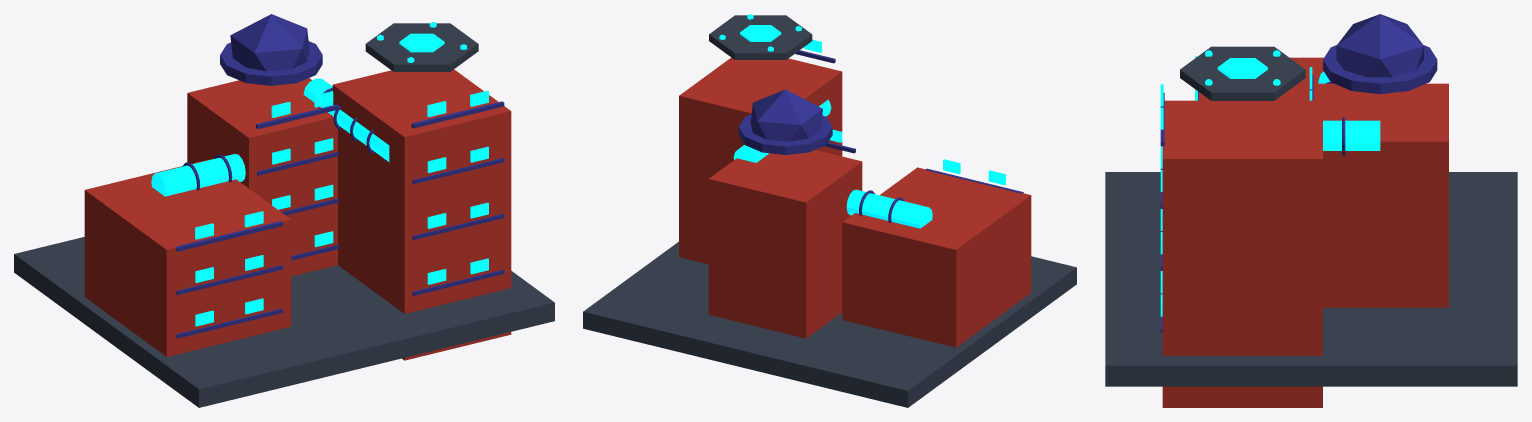
3 renders of one model, left to right at view 1: azimuth 30°, elevation 25°; view 2: azimuth 150°, elevation 25°; view 3: azimuth 270°, elevation 25°, orthographic. The views are drawn at different scales.
Parts seen in each view (by area): view 1: IU_Block_East, IU_Foundation, IU_Block_West, IU_Block_Mid, IU_VTOLPad, IU_GeodesicDome, IU_Skywalk_1, IU_DomeBase, IU_Skywalk_2, IU_VTOLMark, IU_Panel_West_2, IU_Panel_East_3 (+6 smaller); view 2: IU_Foundation, IU_Block_West, IU_Block_Mid, IU_Block_East, IU_VTOLPad, IU_GeodesicDome, IU_Skywalk_1, IU_DomeBase, IU_VTOLMark, IU_Skywalk_2; view 3: IU_Block_East, IU_Foundation, IU_Block_Mid, IU_VTOLPad, IU_GeodesicDome, IU_DomeBase, IU_Skywalk_2, IU_Block_West, IU_VTOLMark.
Boxes of the visible parts, <box> form: IU_Block_East: <box>332,69,511,360</box>; IU_Foundation: <box>14,237,554,407</box>; IU_Block_West: <box>84,159,291,356</box>; IU_Block_Mid: <box>187,78,337,276</box>; IU_VTOLPad: <box>365,23,478,71</box>; IU_GeodesicDome: <box>230,14,309,71</box>; IU_Skywalk_1: <box>151,154,245,196</box>; IU_DomeBase: <box>220,41,322,85</box>; IU_Skywalk_2: <box>303,78,389,161</box>; IU_VTOLMark: <box>399,33,444,52</box>; IU_Panel_West_2: <box>175,221,282,251</box>; IU_Panel_East_3: <box>411,101,504,128</box>; IU_Foundation: <box>583,242,1076,407</box>; IU_Block_West: <box>842,167,1031,347</box>; IU_Block_Mid: <box>708,150,862,338</box>; IU_Block_East: <box>679,57,842,264</box>; IU_VTOLPad: <box>709,15,812,59</box>; IU_GeodesicDome: <box>750,89,822,141</box>; IU_Skywalk_1: <box>846,189,932,228</box>; IU_DomeBase: <box>738,114,832,154</box>; IU_VTOLMark: <box>740,25,781,41</box>; IU_Skywalk_2: <box>733,100,831,162</box>; IU_Block_East: <box>1162,100,1322,407</box>; IU_Foundation: <box>1105,172,1517,386</box>; IU_Block_Mid: <box>1313,83,1448,307</box>; IU_VTOLPad: <box>1180,46,1305,100</box>; IU_GeodesicDome: <box>1336,14,1423,77</box>; IU_DomeBase: <box>1323,45,1437,94</box>; IU_Skywalk_2: <box>1323,120,1380,150</box>; IU_Block_West: <box>1199,57,1323,100</box>; IU_VTOLMark: <box>1217,58,1267,78</box>.
Bounding box in the file's own units: 40 × 30.5 × 36.
